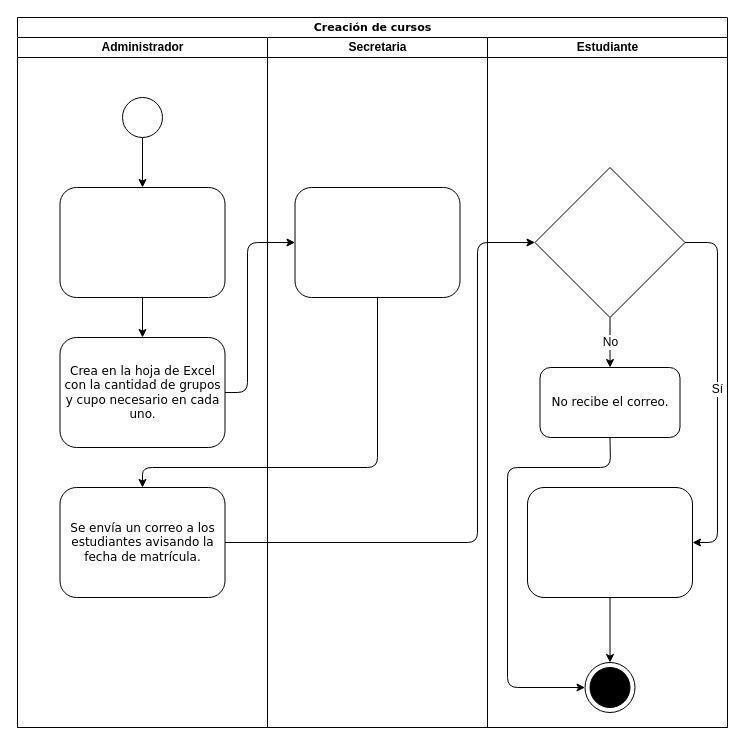
Some shapes in this 745 by 745 pixel diagram are drawn without their labels. The centre of each missing label's shape, as x and y in pixels:
Analiza los datos dados por las escuelas y los estudiantes inscritos.: (x=142, y=242)
Es apto para matrícula.: (x=609, y=242)
Recibe el correo.: (x=609, y=542)
Se crean los cursos y sus grupos.: (x=377, y=242)
